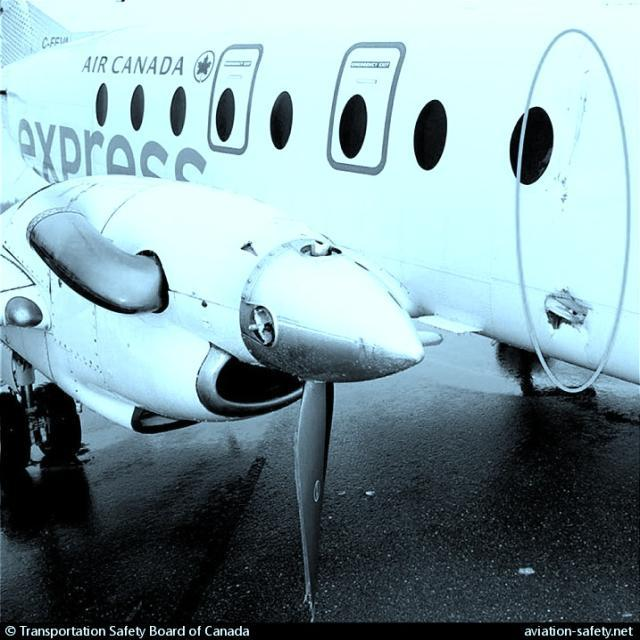crack: (546, 318, 566, 342)
dent: (581, 324, 596, 366)
